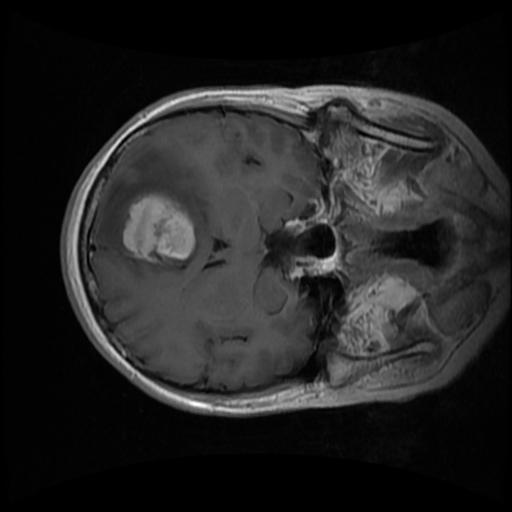meningioma: (121, 192, 197, 263)
